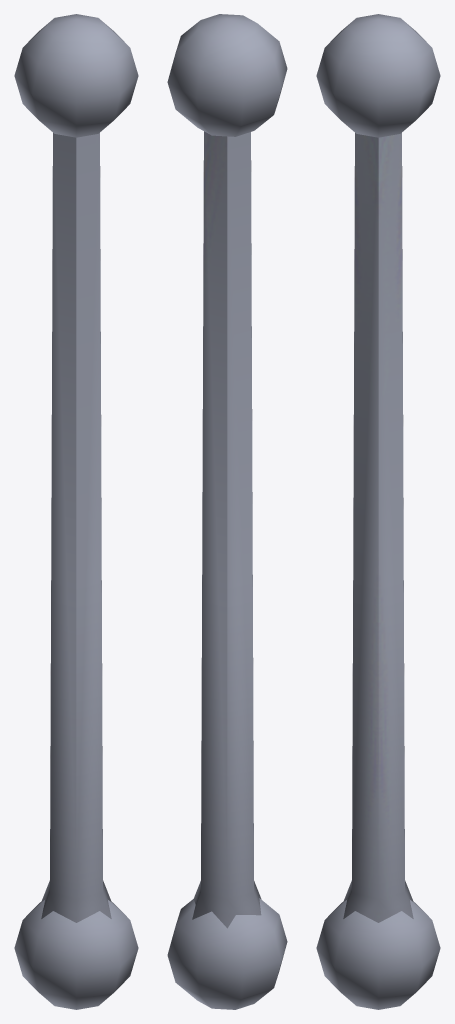
The model's file is e_asset_flagpole_doubleball.fbx.
The picture shows the model from 3 angles, left to right: view 1: azimuth 90°, elevation 25°; view 2: azimuth 150°, elevation 25°; view 3: azimuth 270°, elevation 25°; orthographic projection.
Visible parts, largest first — view 1: polySurface1030; view 2: polySurface1030; view 3: polySurface1030.
Part boxes in pixels (bbox=[...]): polySurface1030: bbox=[14, 14, 138, 1009]; polySurface1030: bbox=[167, 14, 287, 1009]; polySurface1030: bbox=[316, 14, 440, 1009].
Bounding box in the file's own units: 0.1937 × 1.69 × 0.1937.
